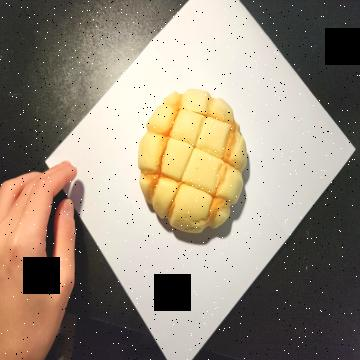melon_bread: (137, 88, 248, 234)
